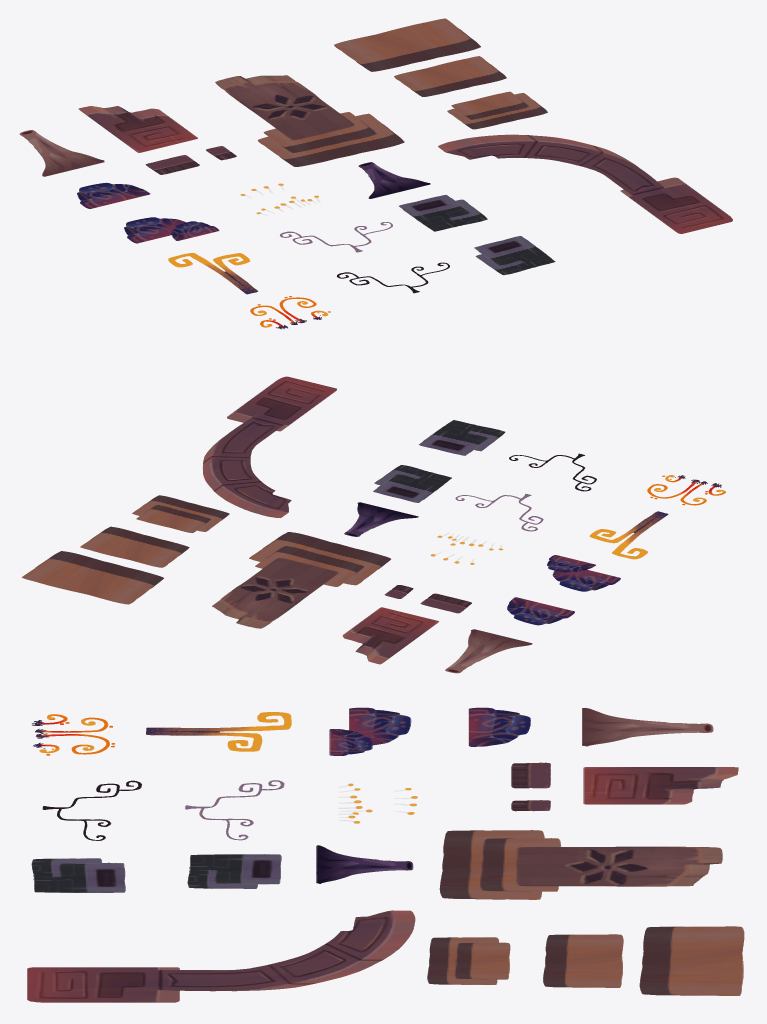
File: Fuego.fbx
3 views of the same model, one above another, from view 1: azimuth 30°, elevation 25°; view 2: azimuth 150°, elevation 25°; view 3: azimuth 270°, elevation 25° (orthographic). The views are drawn at different scales.
Visible parts, largest first — view 1: Plane.004, Plane.010, Plane.002, Plane.006, Plane.001, Plane.003, Plane.015, Plane.011, Plane.013, Plane.009, Plane.008, Plane.014 (+3 smaller); view 2: Plane.004, Plane.010, Plane.002, Plane.006, Plane.001, Plane.003, Plane.011, Plane.015, Plane.013, Plane.009, Plane.008, Plane.014 (+3 smaller); view 3: Plane.004, Plane.010, Plane.002, Plane.006, Plane.001, Plane.003, Plane.015, Plane.011, Plane.013, Plane.009, Plane.008, Plane.014 (+5 smaller).
Part boxes in pixels (x1,y1,x2,y2): Plane.004: (215, 75, 404, 166); Plane.010: (438, 134, 732, 233); Plane.002: (334, 18, 480, 71); Plane.006: (78, 106, 197, 152); Plane.001: (394, 56, 506, 96); Plane.003: (447, 91, 547, 129); Plane.015: (399, 194, 487, 231); Plane.011: (474, 236, 555, 275); Plane.013: (124, 217, 219, 243); Plane.009: (19, 130, 104, 176); Plane.008: (77, 182, 150, 208); Plane.014: (358, 162, 430, 198); Plane.004: (212, 532, 390, 628); Plane.010: (202, 376, 336, 517); Plane.002: (22, 551, 163, 604); Plane.006: (342, 607, 438, 664); Plane.001: (80, 526, 189, 567); Plane.003: (132, 495, 229, 532); Plane.011: (419, 420, 505, 455); Plane.015: (373, 465, 451, 502); Plane.013: (547, 555, 620, 591); Plane.009: (445, 629, 532, 673); Plane.008: (507, 597, 574, 625); Plane.014: (344, 502, 418, 536); Plane.004: (439, 830, 722, 899); Plane.010: (27, 910, 415, 1002); Plane.002: (639, 926, 744, 995); Plane.006: (583, 767, 738, 804); Plane.001: (543, 934, 623, 987); Plane.003: (427, 937, 510, 984); Plane.015: (187, 854, 281, 888); Plane.011: (31, 858, 125, 892); Plane.013: (329, 707, 411, 755); Plane.009: (582, 708, 713, 746); Plane.008: (468, 707, 530, 746); Plane.014: (316, 845, 413, 883).
Bounding box in the file's own units: 195 × 1.83e-05 × 200.
